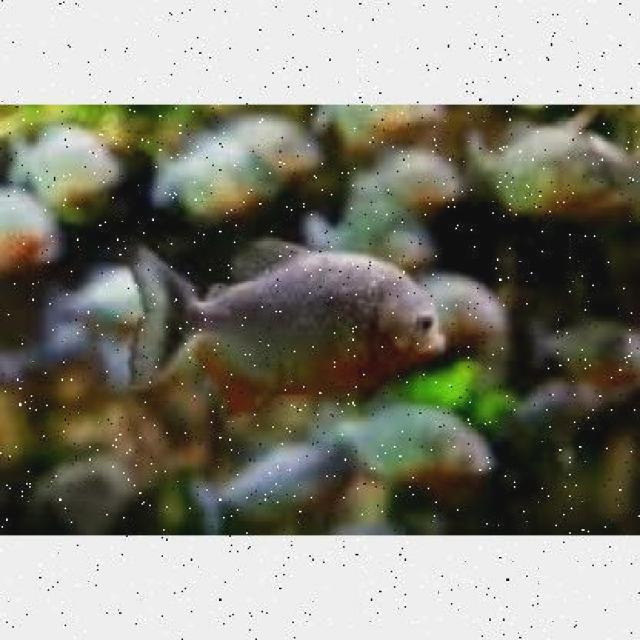ikan-pacu: (130, 244, 452, 393), (334, 400, 497, 486)
